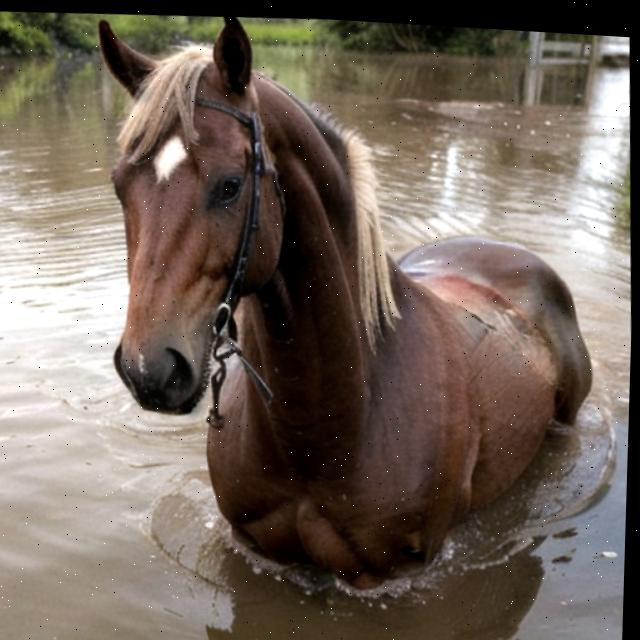horse: (57, 4, 624, 624)
